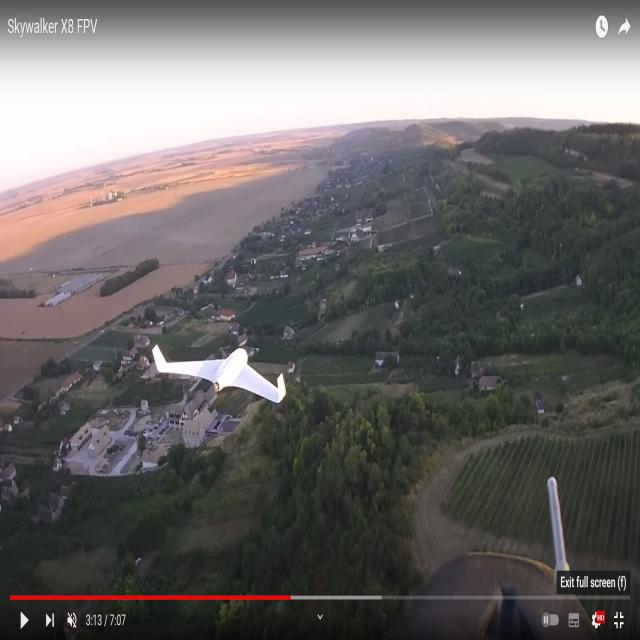iha: (153, 368, 287, 374)
